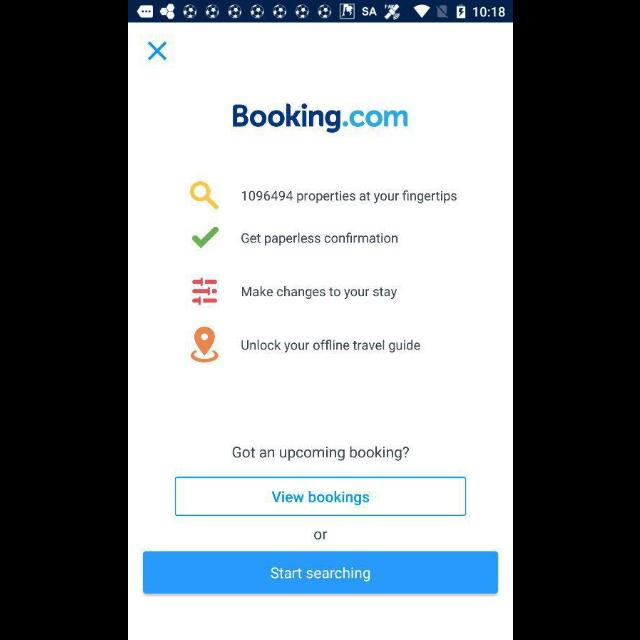icon: (189, 326, 217, 364), (190, 182, 218, 210), (191, 278, 217, 306), (192, 227, 218, 249), (148, 41, 166, 60)
image: (232, 104, 408, 134)
text: (232, 446, 408, 462), (242, 190, 456, 203), (240, 339, 420, 353), (241, 232, 397, 246), (242, 286, 396, 300), (312, 528, 328, 544)
textbutton: (142, 552, 498, 594), (174, 478, 466, 516)
uppertaskbar: (128, 1, 512, 23)
